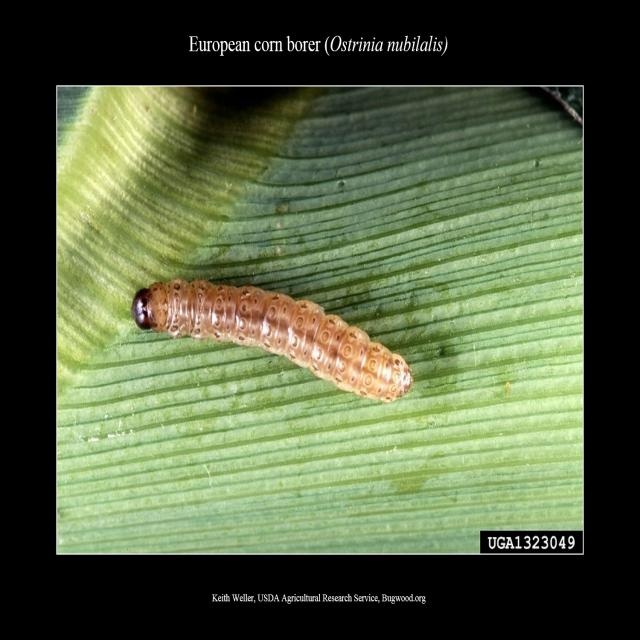cornborer-Larva-: (120, 271, 423, 412)
